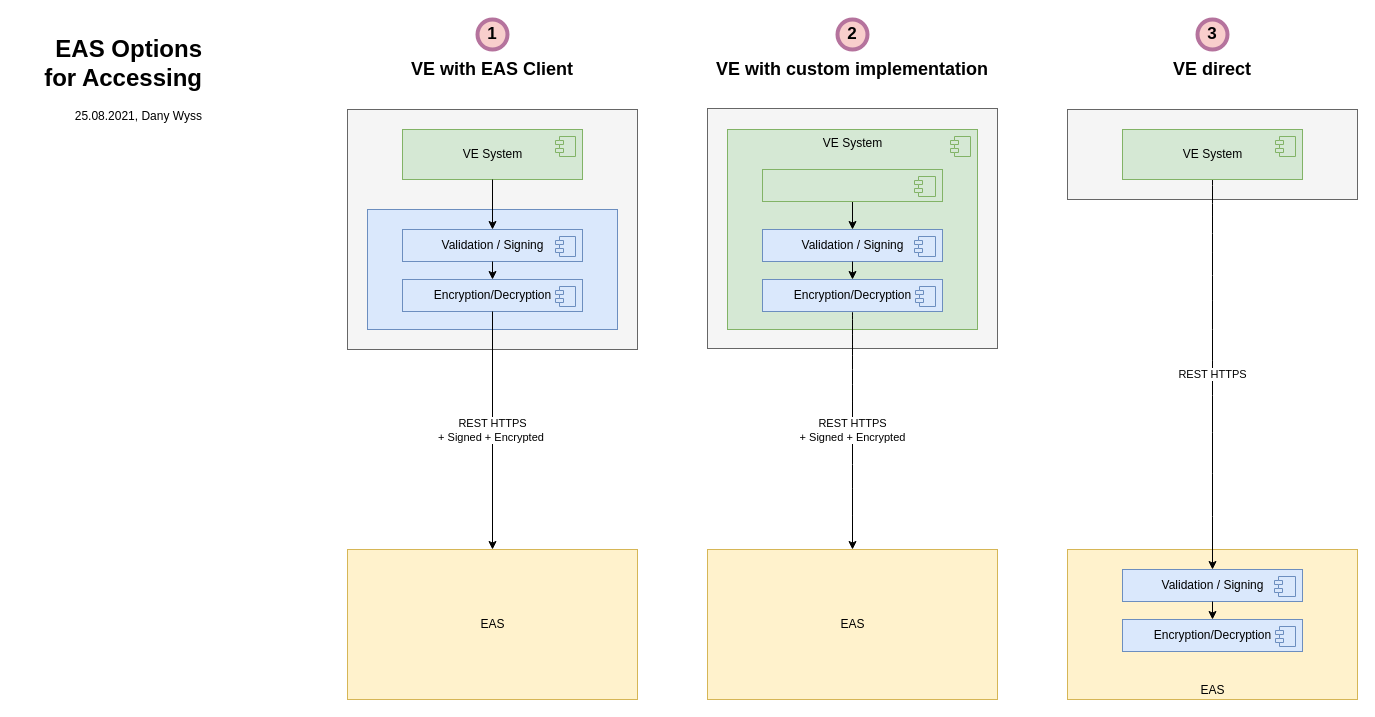
Some shapes in this 1375 by 717 pixel diagram are drawn without their labels. Here are the shapes that lost their labels. From the top down, the box of each, then its label:
(762, 168, 942, 202): Business Logic
(366, 208, 618, 330): EAS Client
